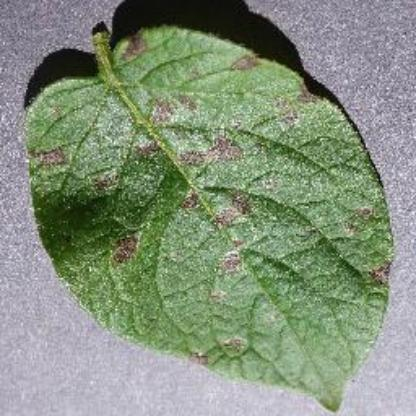Early-Blight: (20, 19, 404, 416)
